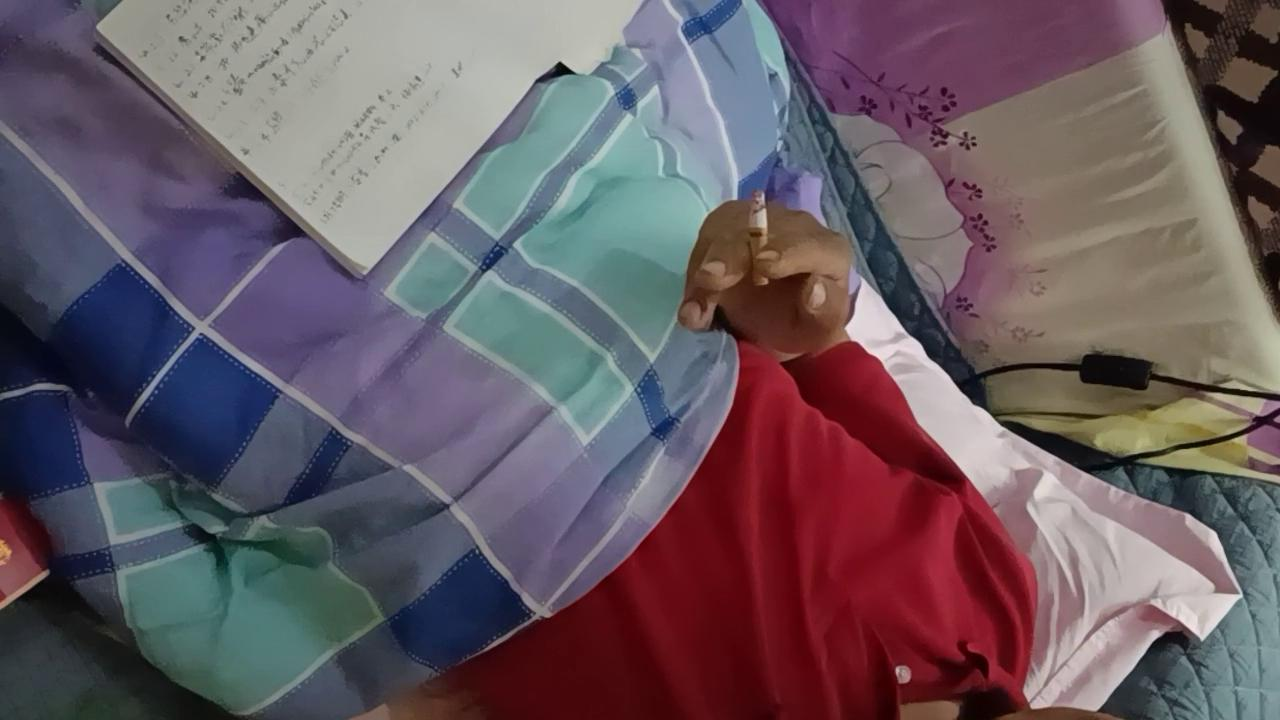smoke: (749, 189, 768, 286)
